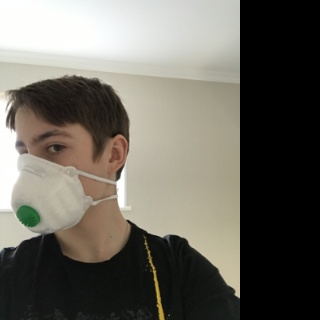with_mask: (9, 122, 100, 234)
